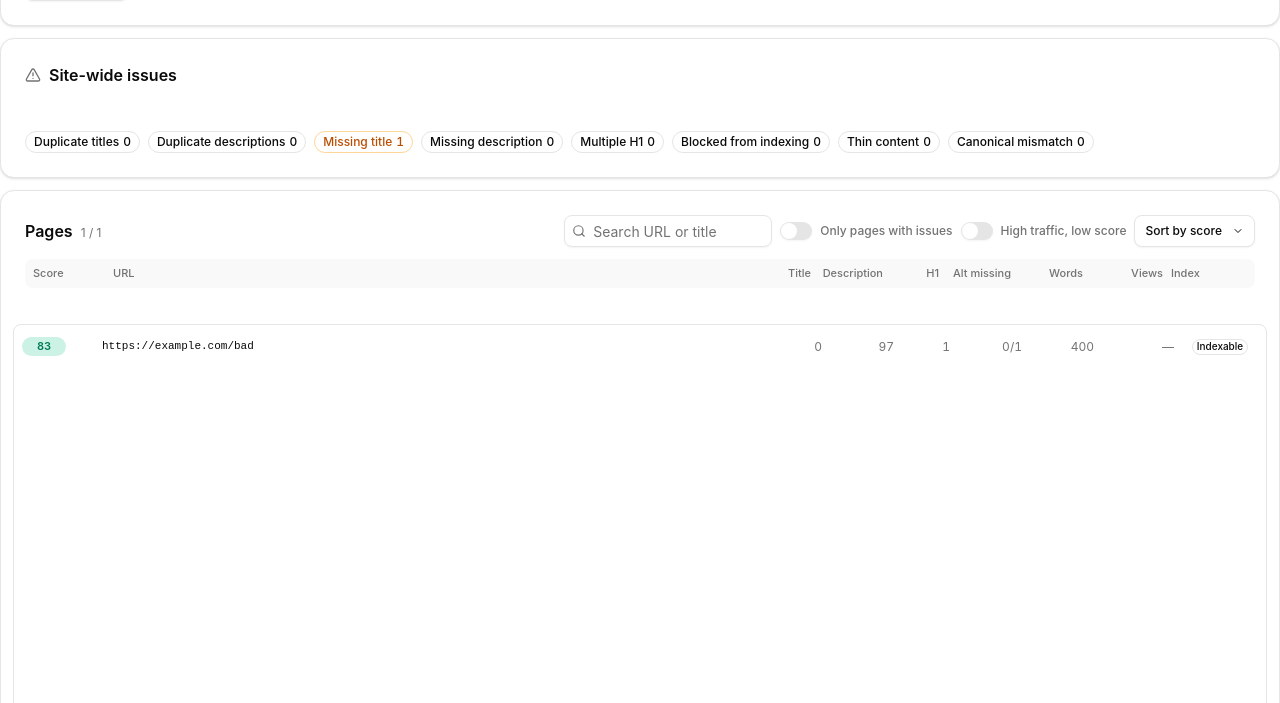
Test: SeoTab › opens the per-page detail with checks and fix hints / 開啟單頁詳情
(page scrolled)
Step 1. Click the text "https://example.com/bad" → (178,346), box [102, 340, 254, 352]
(page scrolled)
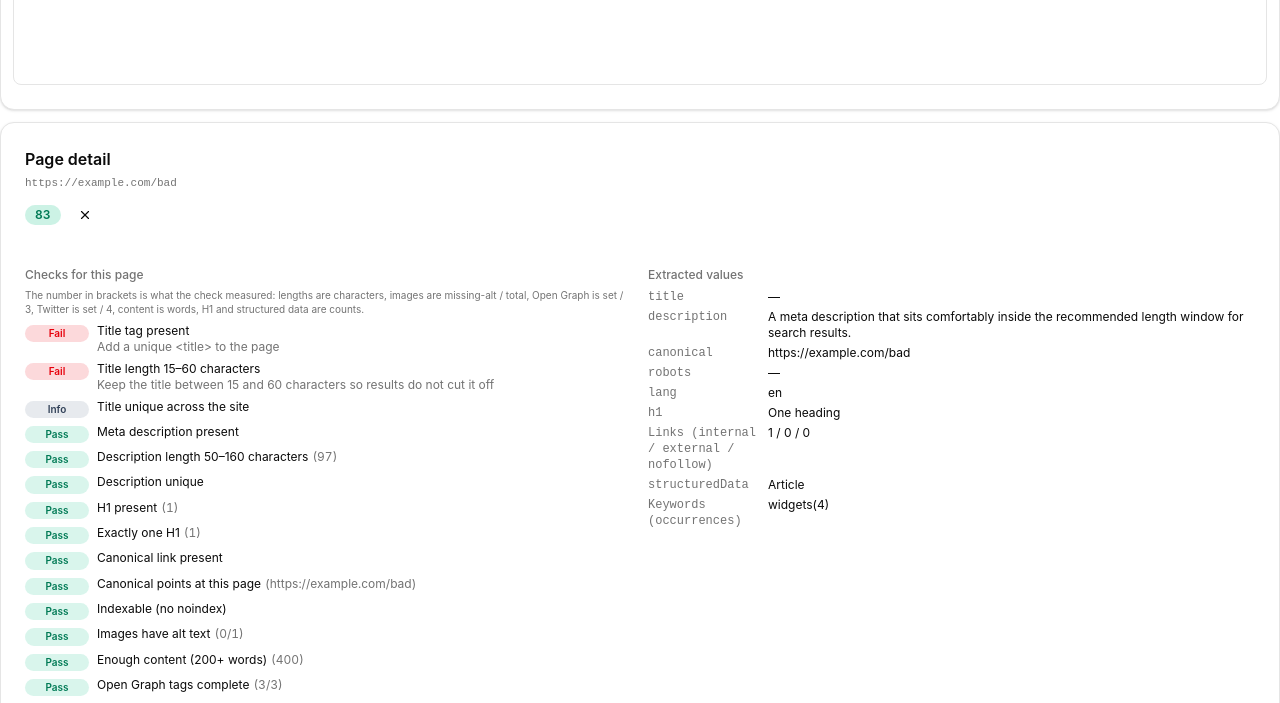
Result: the text "Page detail" is shown at [25, 148, 111, 168]
Result: the text "Checks for this page" is shown at [25, 267, 144, 282]
Result: the text "number in brackets" is shown at [25, 289, 623, 315]
